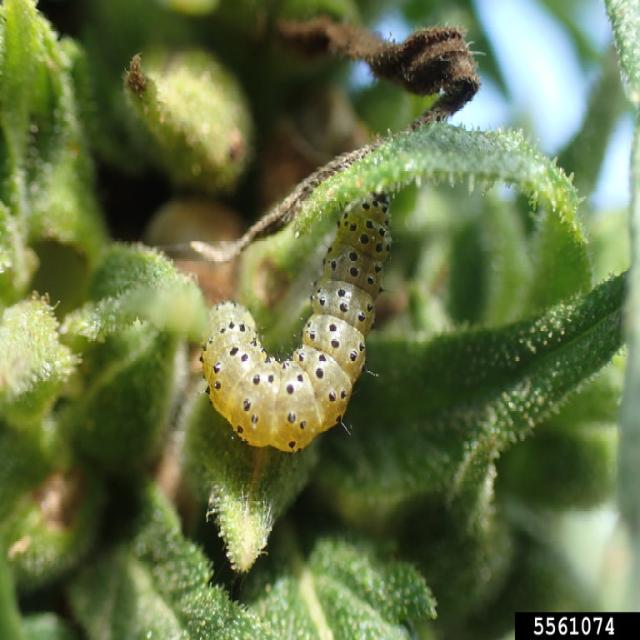Corn-earworm: (192, 189, 396, 454)
